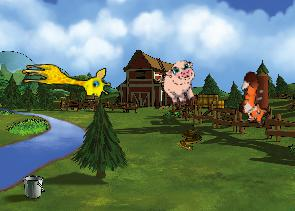fox: (233, 70, 278, 128)
giraffe: (20, 63, 111, 98)
pig: (155, 57, 205, 109)
